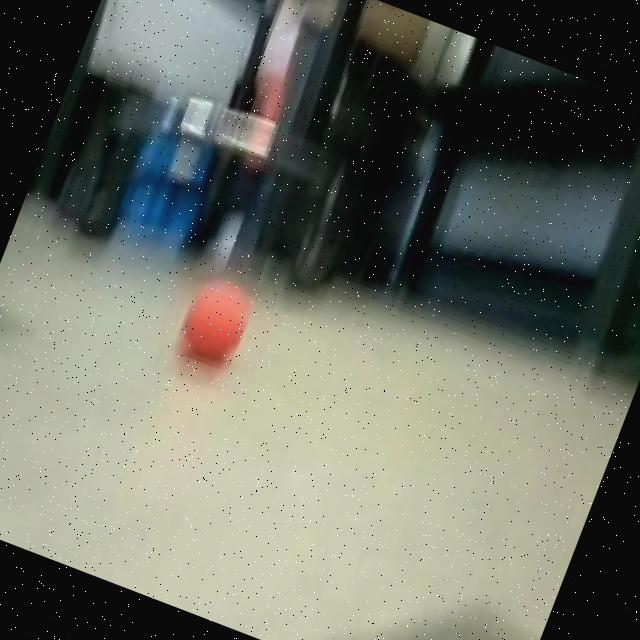ping-pong-ball: (174, 266, 261, 368)
